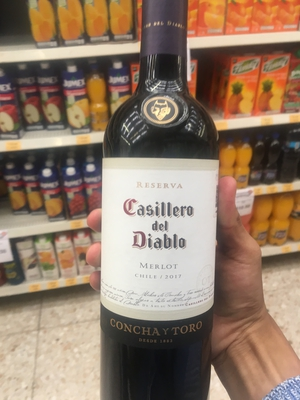casillero del diablo merlot: (98, 12, 218, 400)
